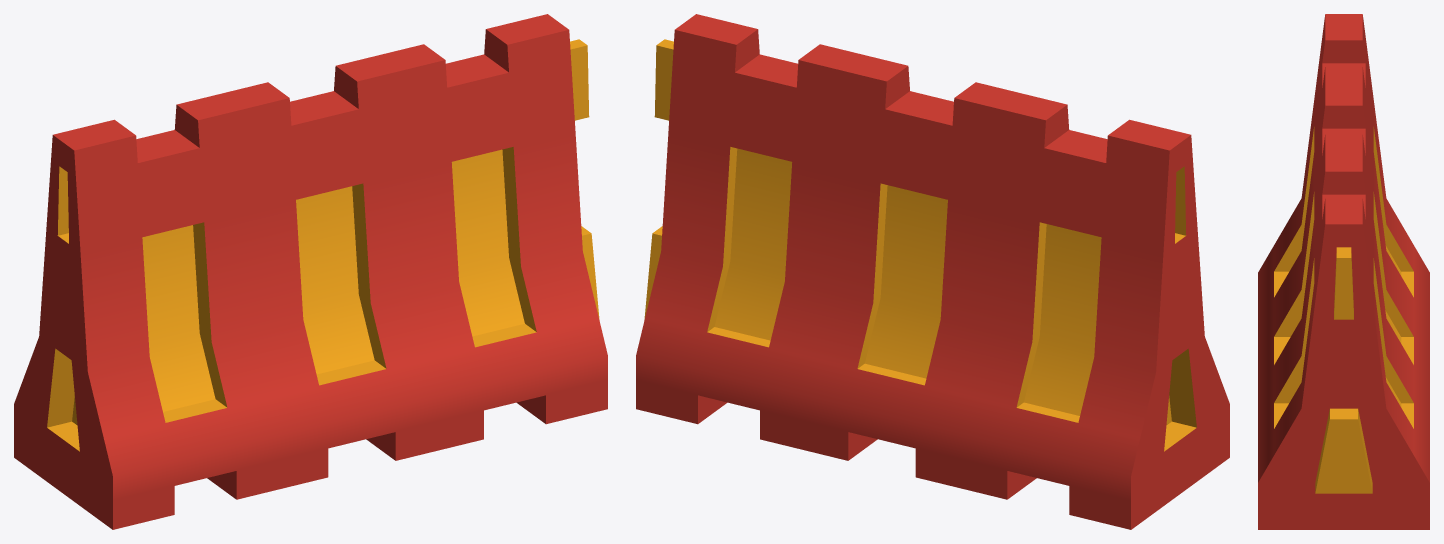
File: Barricade_Plastic_05.fbx
The picture shows the model from 3 angles, left to right: view 1: azimuth 30°, elevation 25°; view 2: azimuth 150°, elevation 25°; view 3: azimuth 270°, elevation 25°; orthographic projection. The views are drawn at different scales.
Visible parts, largest first — view 1: Obstacle_Barricade_Plastic_05; view 2: Obstacle_Barricade_Plastic_05; view 3: Obstacle_Barricade_Plastic_05.
Part boxes in pixels (bbox=[...]): Obstacle_Barricade_Plastic_05: bbox=[14, 14, 607, 529]; Obstacle_Barricade_Plastic_05: bbox=[636, 14, 1229, 529]; Obstacle_Barricade_Plastic_05: bbox=[1258, 14, 1429, 529].
Size of the model in its own units: 106 by 68.44 by 34.86.
Materials: 1 (1 with a texture image).
